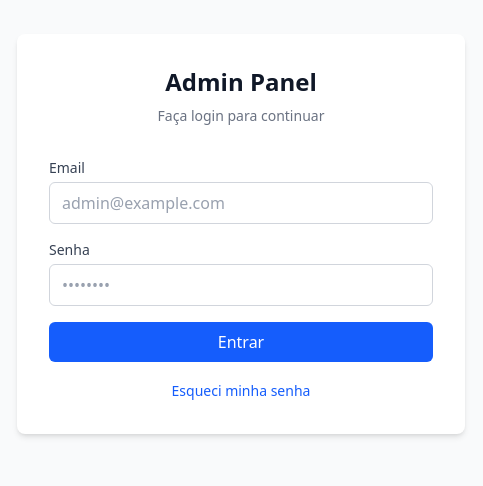
Test case: LoginPage › on generic auth error, shows the actual error message from Supabase
Type "disabled@example.com" into the field labelled "Email" at (241, 203), box [49,182,433,224]
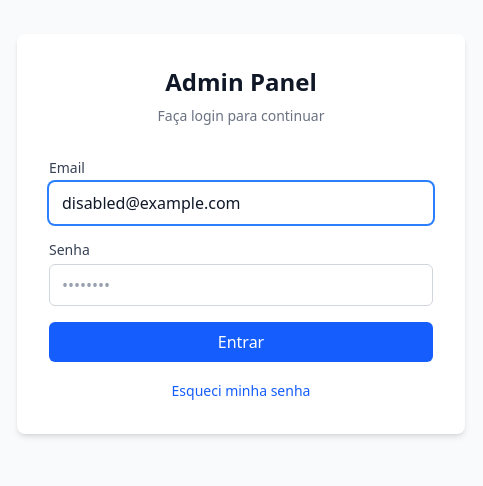
Type "password123" into the password field labelled "Senha" at (241, 285), box [49,264,433,306]
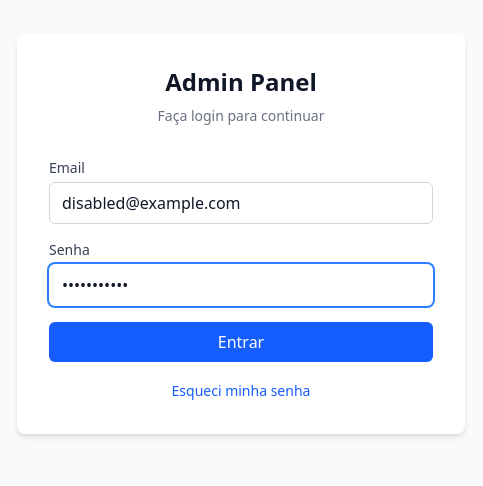
Click the button "Entrar" at (241, 342), box [49,322,433,362]
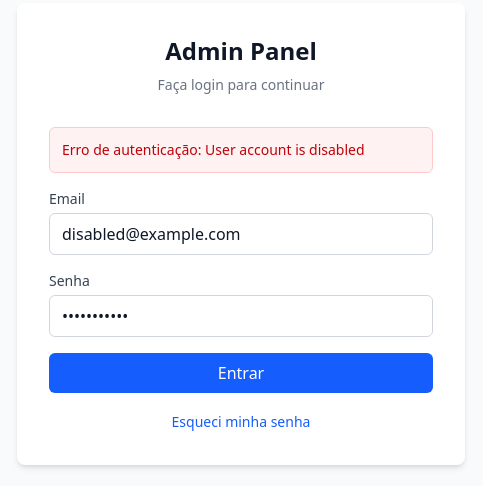
Check: the text "Erro de autenticação: User account is disabled" is shown, box [49,127,433,173]
